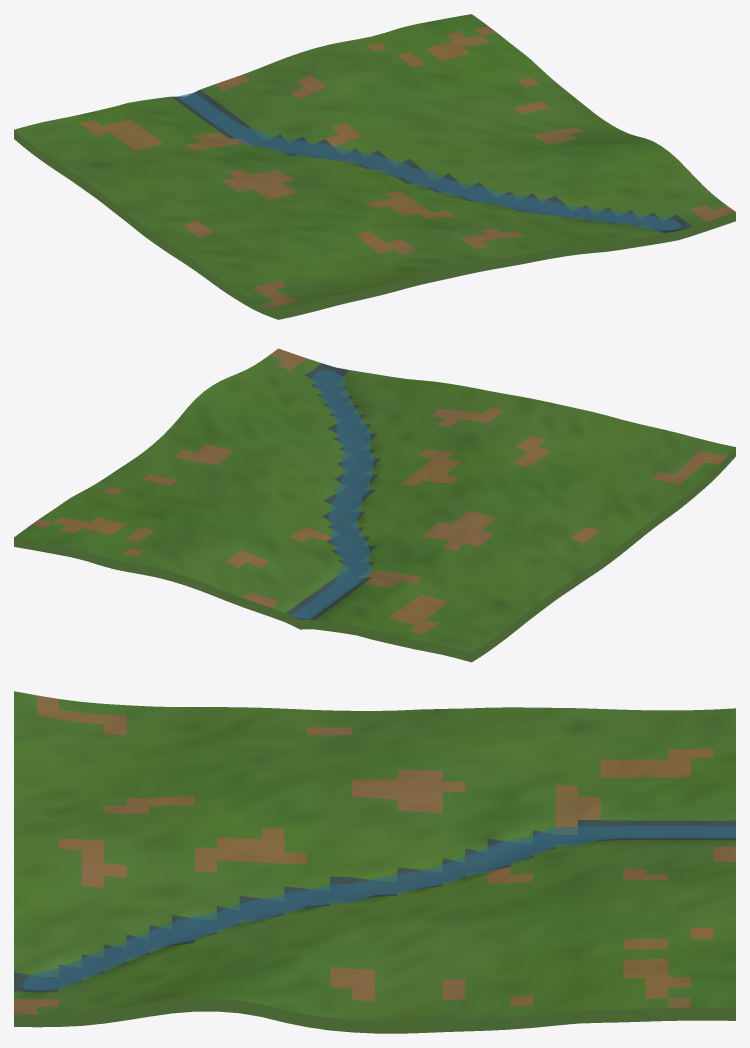
File: chunk_4_7_lod1.glb
3 views of the same model, one above another, from view 1: azimuth 30°, elevation 25°; view 2: azimuth 150°, elevation 25°; view 3: azimuth 270°, elevation 25° (orthographic). The views are drawn at different scales.
Visible parts, largest first — view 1: Surface_Grass, Surface_Dirt, Surface_Water, Water, Skirt; view 2: Surface_Grass, Surface_Dirt, Surface_Water, Skirt, Water; view 3: Surface_Grass, Surface_Dirt, Surface_Water, Water, Skirt.
Boxes of the visible parts, left/top/right/bottom form: Surface_Grass: left=14, top=14, right=727, bottom=310; Surface_Dirt: left=80, top=26, right=735, bottom=307; Surface_Water: left=172, top=90, right=692, bottom=233; Water: left=177, top=92, right=681, bottom=231; Skirt: left=14, top=130, right=735, bottom=319; Surface_Grass: left=14, top=355, right=735, bottom=652; Surface_Dirt: left=31, top=348, right=727, bottom=634; Surface_Water: left=286, top=363, right=381, bottom=619; Skirt: left=14, top=447, right=735, bottom=662; Water: left=291, top=370, right=374, bottom=619; Surface_Grass: left=14, top=691, right=735, bottom=1020; Surface_Dirt: left=14, top=695, right=735, bottom=1014; Surface_Water: left=14, top=819, right=735, bottom=992; Water: left=22, top=826, right=735, bottom=990; Skirt: left=14, top=998, right=735, bottom=1033.
Bounding box in the file's own units: 256 × 16.63 × 256.
